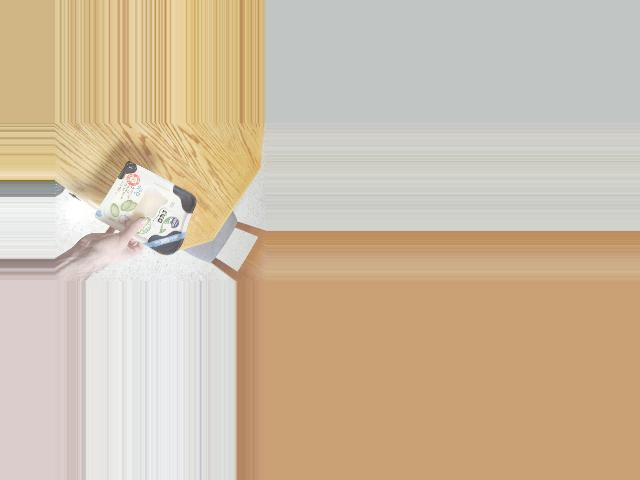cheese: (106, 167, 194, 253)
